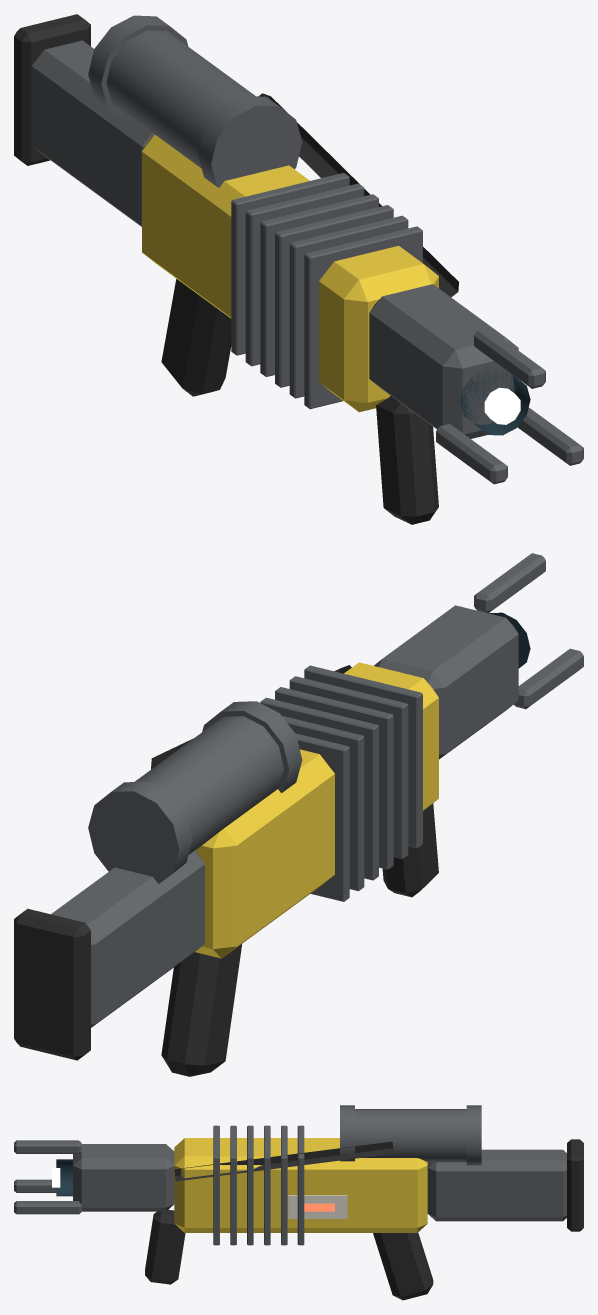
File: weapon_plasma_cutter.glb
3 views of the same model, one above another, from view 1: azimuth 30°, elevation 25°; view 2: azimuth 150°, elevation 25°; view 3: azimuth 270°, elevation 25° (orthographic). The views are drawn at different scales.
Visible parts, largest first — view 1: weapon_plasma_cutter; view 2: weapon_plasma_cutter; view 3: weapon_plasma_cutter.
Boxes of the visible parts, bbox=[...] form: weapon_plasma_cutter: bbox=[14, 14, 583, 524]; weapon_plasma_cutter: bbox=[14, 553, 583, 1076]; weapon_plasma_cutter: bbox=[14, 1105, 583, 1300].
Size of the model in its own units: 0.0919 by 0.248 by 0.675.
